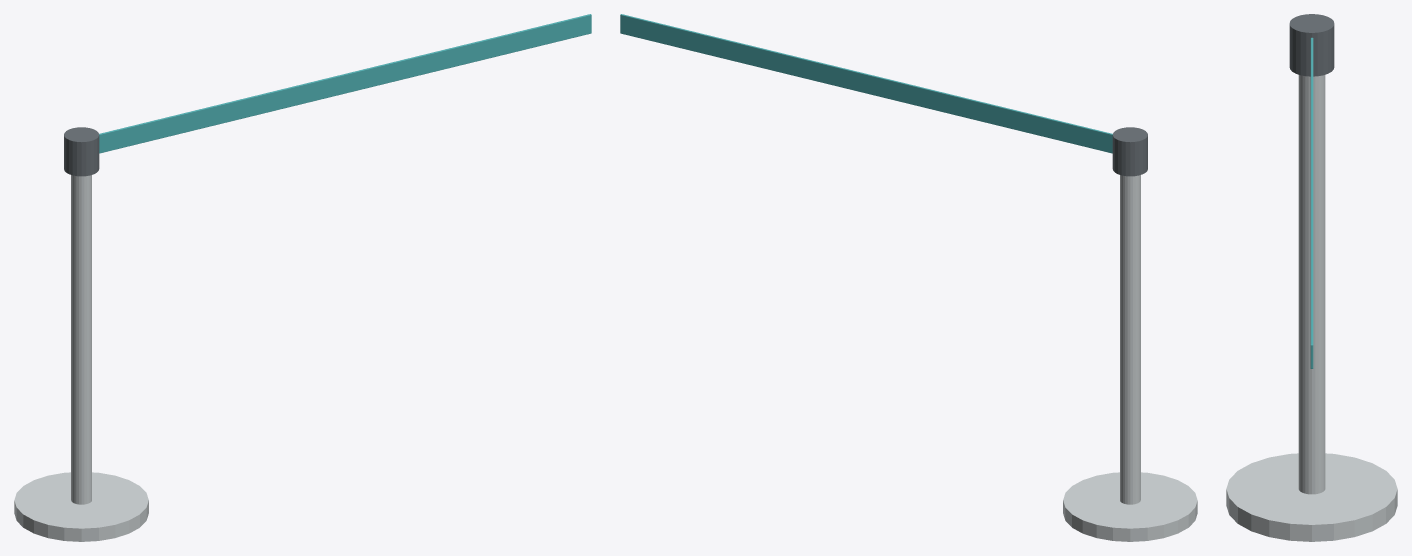
The model's file is queue-barrier.glb.
The picture shows the model from 3 angles, left to right: view 1: azimuth 30°, elevation 25°; view 2: azimuth 150°, elevation 25°; view 3: azimuth 270°, elevation 25°; orthographic projection. The views are drawn at different scales.
Parts seen in each view (by area): view 1: RetractableBelt, WeightedBase, Post, BeltCassette; view 2: RetractableBelt, WeightedBase, Post, BeltCassette; view 3: WeightedBase, Post, BeltCassette, RetractableBelt.
Part boxes in pixels (x1,y1,x2,y2): RetractableBelt: (99, 14, 591, 153); WeightedBase: (14, 472, 148, 541); Post: (71, 175, 91, 504); BeltCassette: (64, 127, 99, 176); RetractableBelt: (620, 14, 1112, 153); WeightedBase: (1063, 472, 1197, 541); Post: (1120, 175, 1140, 504); BeltCassette: (1112, 127, 1147, 176); WeightedBase: (1226, 453, 1397, 541); Post: (1298, 75, 1325, 494); BeltCassette: (1289, 14, 1334, 76); RetractableBelt: (1310, 37, 1313, 368).
Size of the model in its own units: 1.56 by 0.9945 by 0.32.
